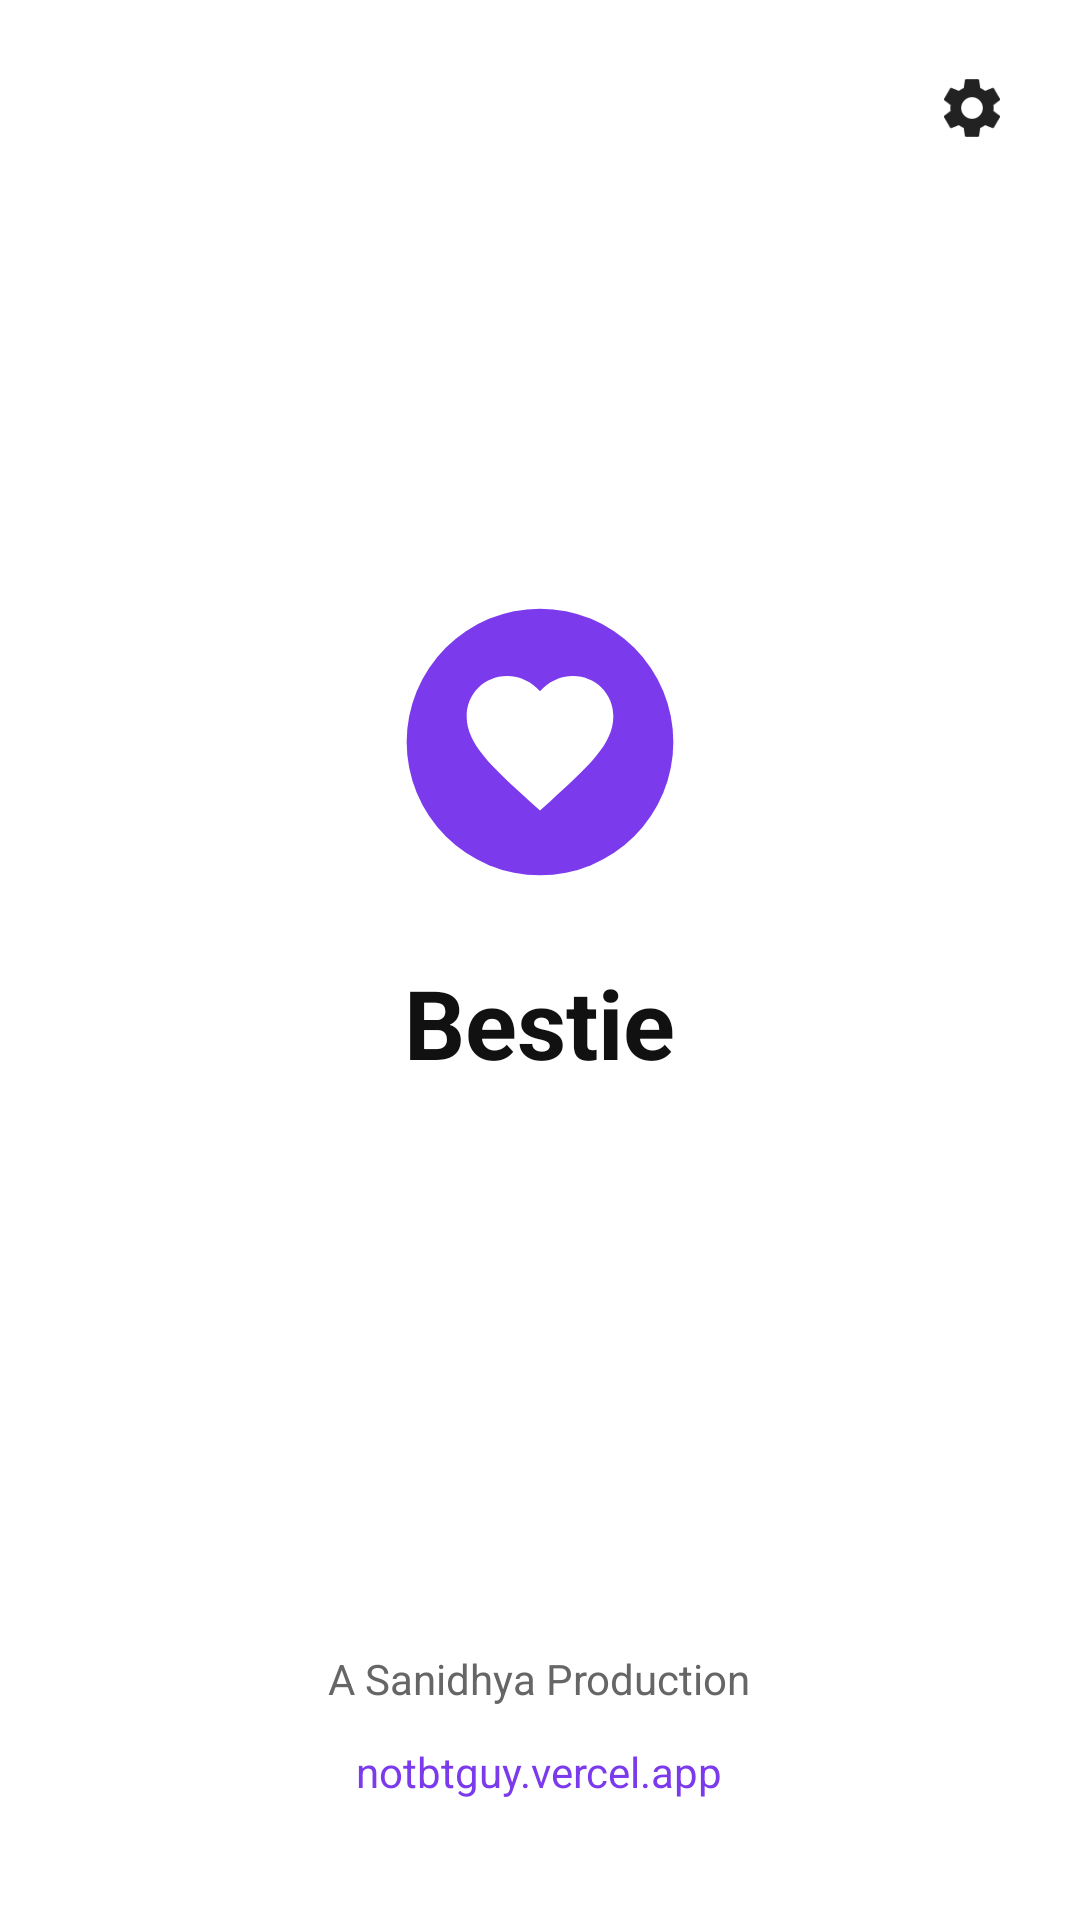

Named icons in this screenshot (1080px×1920px) and their centers, point (x, y):
Settings: point (972, 108)
